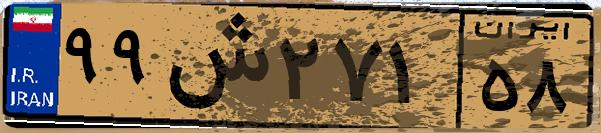1: (385, 28, 445, 110)
2: (270, 28, 330, 110)
5: (475, 38, 525, 113)
7: (330, 28, 385, 110)
8: (525, 38, 570, 115)
9: (57, 26, 110, 100), (110, 28, 158, 98)
ش: (158, 12, 270, 120)
